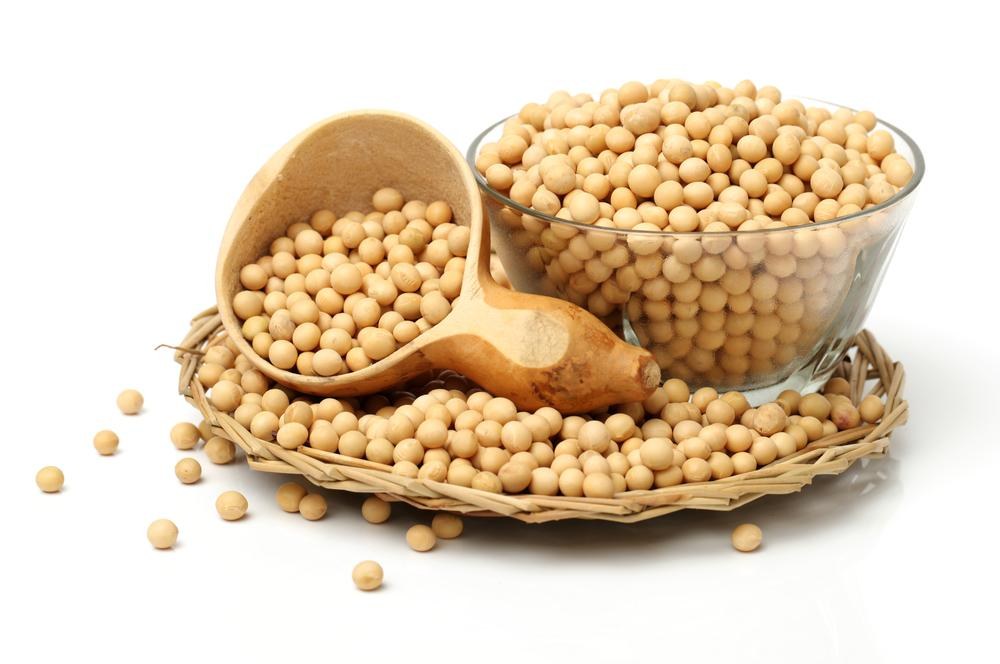peas: (472, 76, 913, 390), (231, 186, 469, 377)
soy beans: (46, 77, 918, 563), (35, 386, 466, 588)
